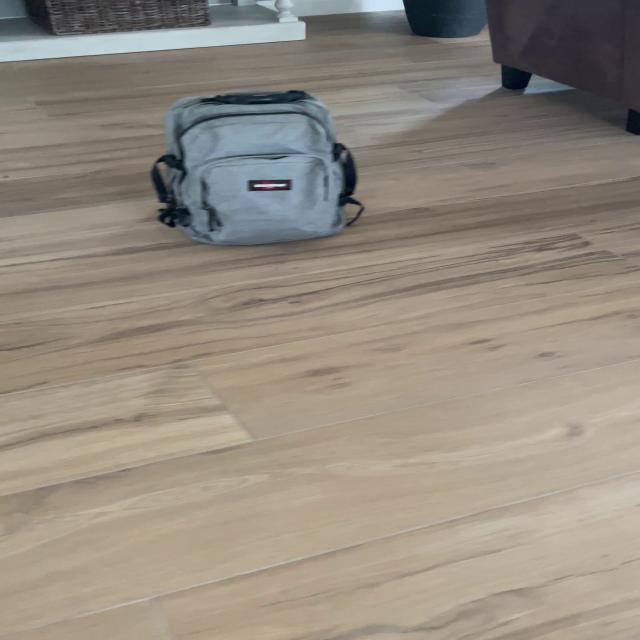backpack: (138, 81, 370, 252)
